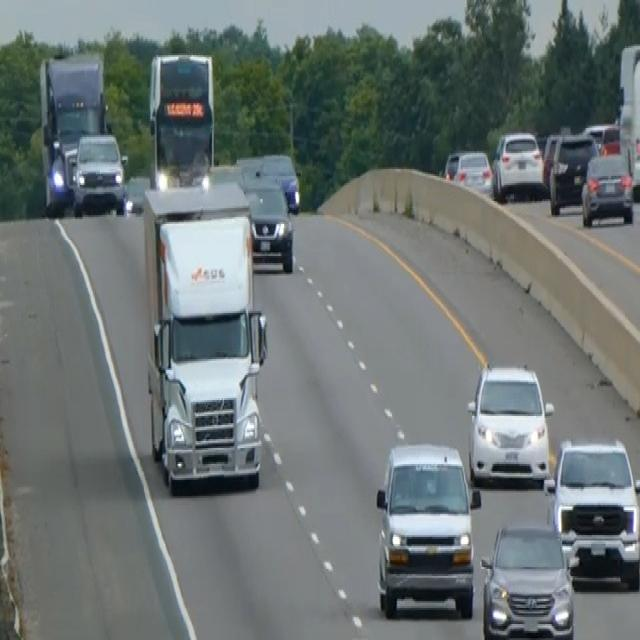bus: (147, 50, 215, 188)
car: (544, 434, 639, 588), (479, 519, 575, 638), (466, 359, 554, 487), (241, 174, 294, 272), (71, 128, 127, 215), (580, 150, 634, 228), (548, 130, 598, 213), (236, 150, 301, 213), (491, 128, 544, 201), (453, 147, 492, 195), (583, 119, 620, 155), (121, 173, 150, 215), (541, 130, 560, 188), (443, 148, 461, 182)
lorry: (141, 180, 268, 494)
minivan: (372, 438, 479, 620)
